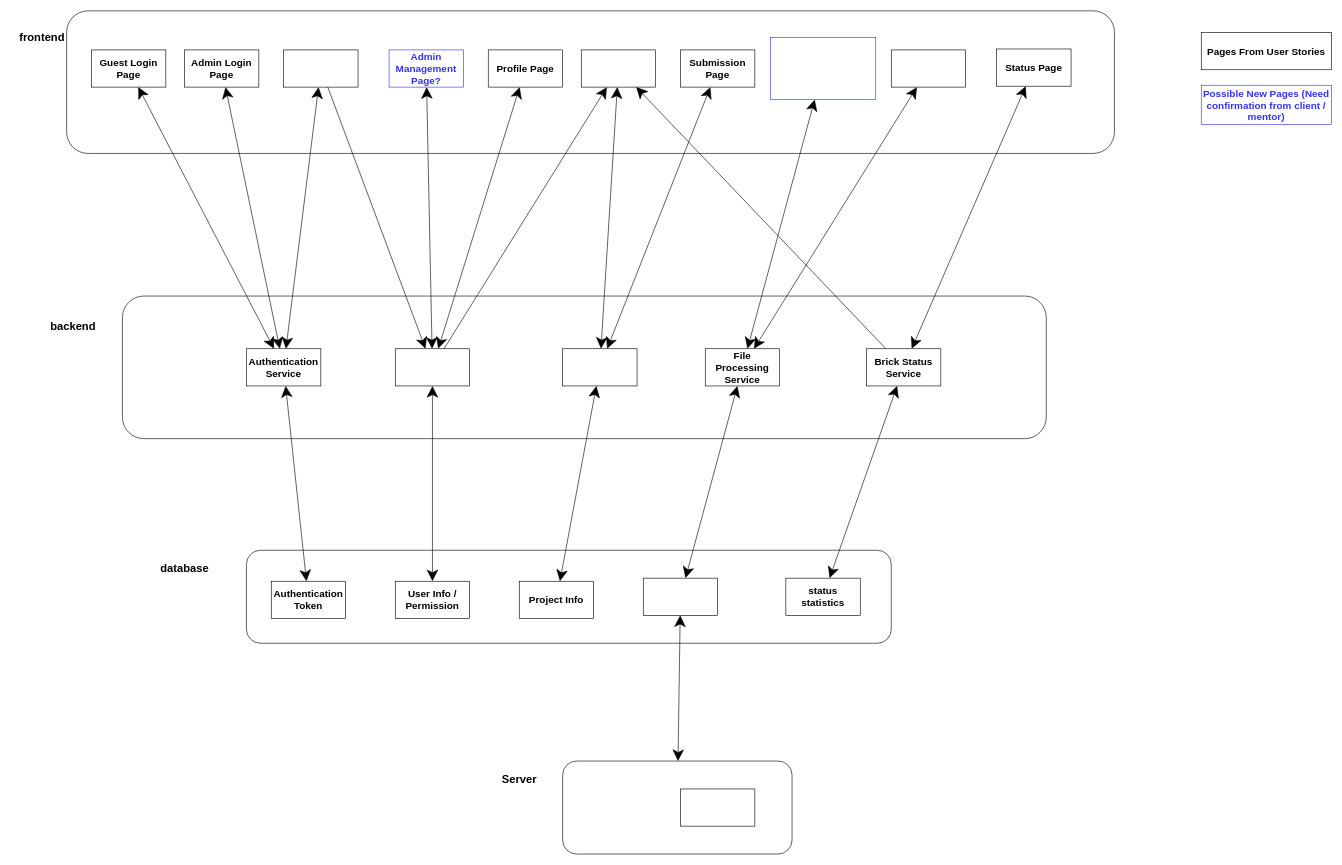
The diagram is 1342 pixels wide and 865 high, and some of its shapes have lost their labels. Each missing label, with the centre of its shape:
Home Page: [618,68]
Invitation Creation Page: [320,68]
Profile Service: [432,367]
Project Service: [599,367]
Store videos on server: [717,807]
Video Download Page? (can combine with submission): [823,68]
video filename: [680,596]
Video Upload and manage Page: [928,68]
